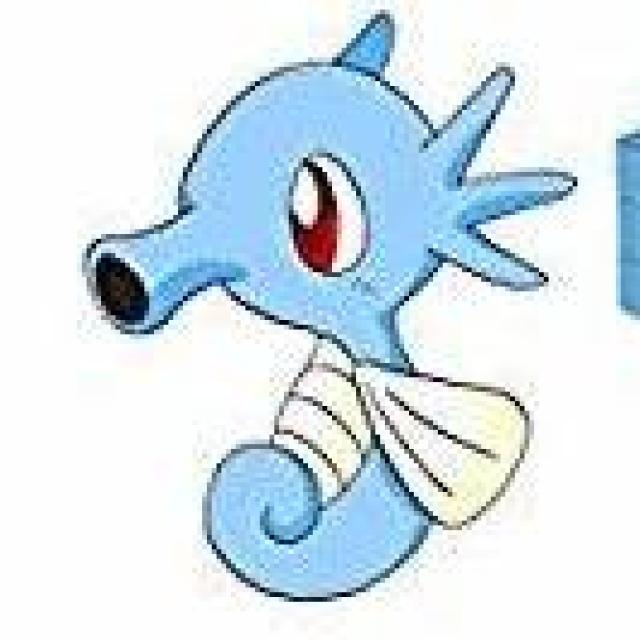Horsea: (84, 14, 570, 619)
